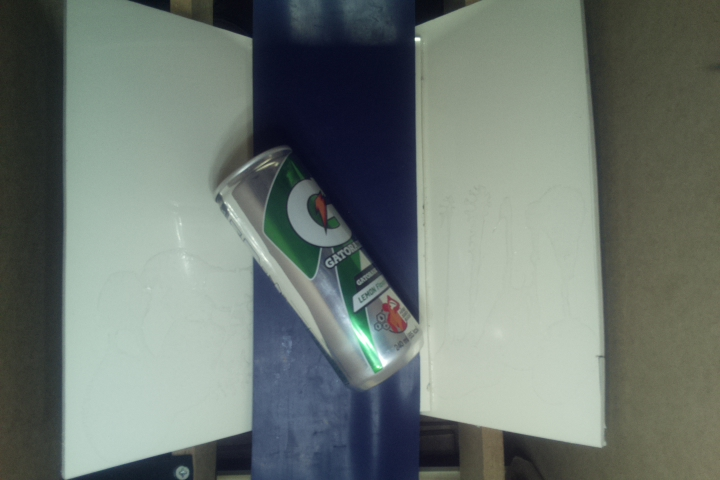can: (213, 141, 426, 393)
